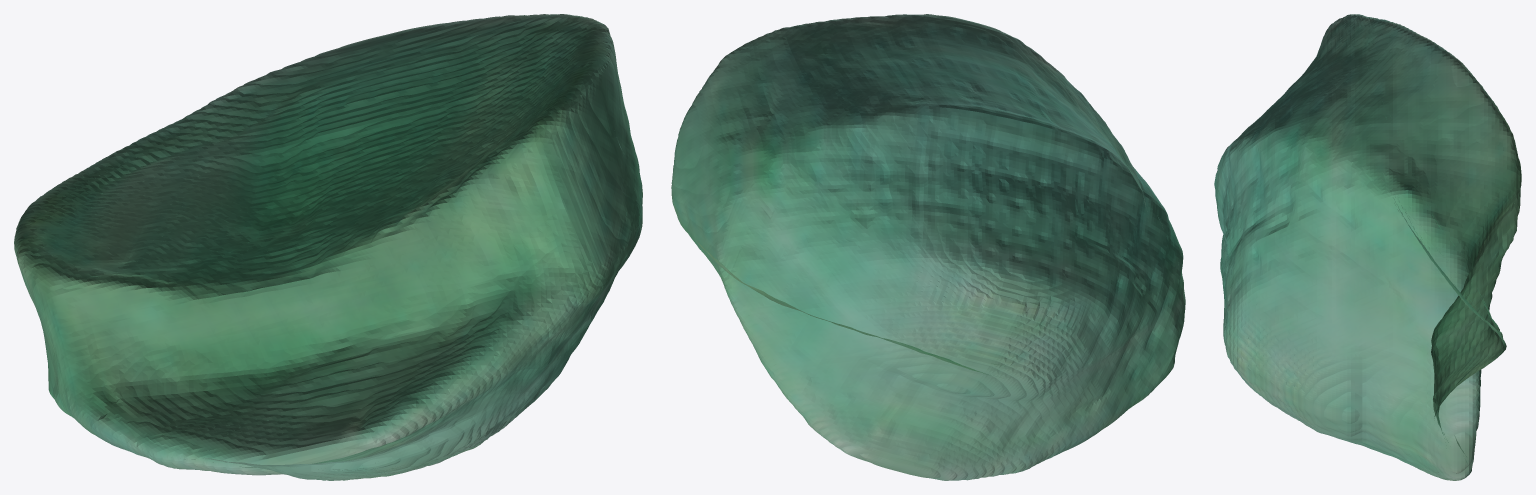
3 views of the same model, side by side, from view 1: azimuth 30°, elevation 25°; view 2: azimuth 150°, elevation 25°; view 3: azimuth 270°, elevation 25° (orthographic). The views are drawn at different scales.
Visible parts, largest first — view 1: geometry_0; view 2: geometry_0; view 3: geometry_0.
Part boxes in pixels (x1=…): geometry_0: x1=14, y1=14, x2=642, y2=480; geometry_0: x1=671, y1=14, x2=1185, y2=480; geometry_0: x1=1214, y1=14, x2=1521, y2=480.
Size of the model in its own units: 1.6 by 1.3 by 0.8807.
